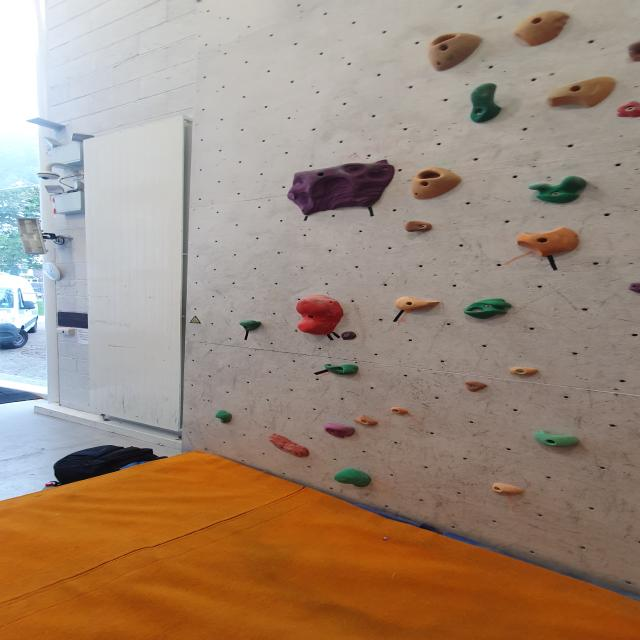Crimp: (285, 163, 399, 217), (268, 435, 313, 460), (489, 481, 525, 498), (616, 100, 640, 118), (462, 381, 488, 394), (509, 366, 542, 376), (388, 405, 411, 416)
Jug: (529, 176, 591, 208), (468, 84, 505, 125), (532, 429, 582, 449), (322, 362, 359, 376), (404, 220, 436, 233), (625, 41, 640, 65), (238, 319, 263, 332)
Pinch: (542, 75, 620, 110), (508, 9, 573, 47), (515, 228, 583, 259), (394, 296, 442, 314), (352, 414, 379, 428)
Pocket: (425, 32, 489, 75), (410, 167, 465, 202), (463, 300, 515, 321)
Sloper: (293, 294, 346, 336), (334, 468, 375, 492), (323, 422, 358, 439), (215, 411, 233, 425)
